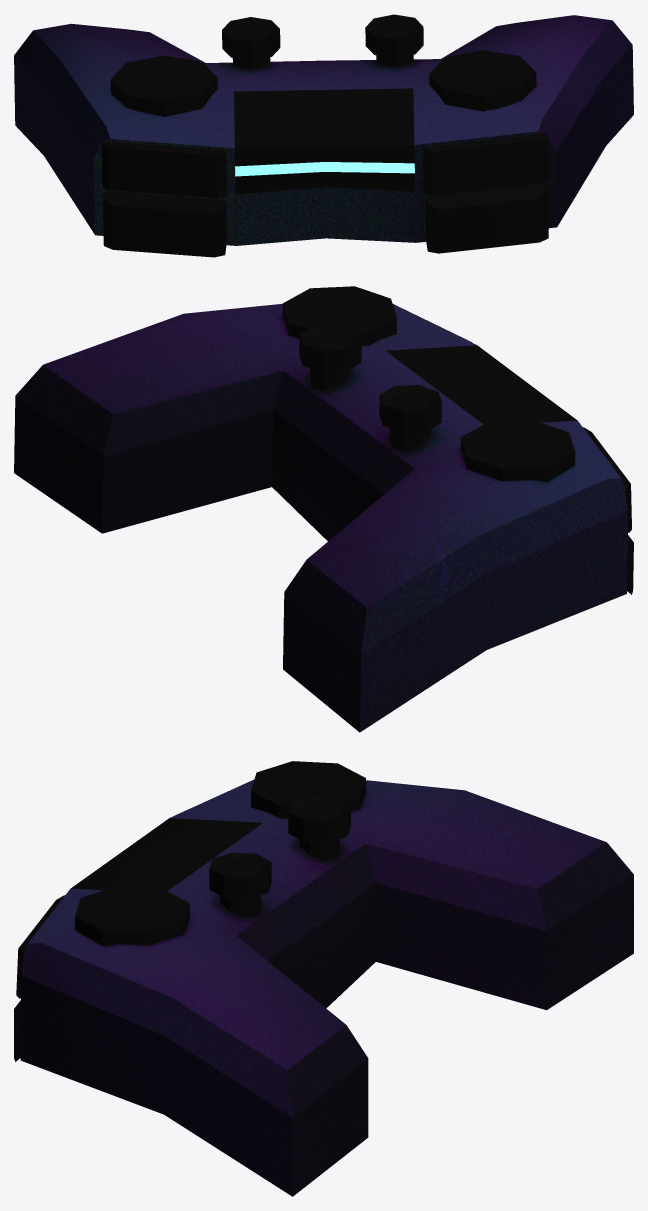
Rendered from controler.fbx.
3 renders of one model, top to bottom at view 1: azimuth 30°, elevation 25°; view 2: azimuth 150°, elevation 25°; view 3: azimuth 270°, elevation 25°, orthographic. The views are drawn at different scales.
Parts seen in each view (by area): view 1: controler 2; view 2: controler 2; view 3: controler 2.
Boxes of the visible parts, <box> form: controler 2: <box>14,14,633,257</box>; controler 2: <box>14,286,633,732</box>; controler 2: <box>14,761,633,1196</box>.
Bounding box in the file's own units: 38.73 × 12.54 × 34.06.
